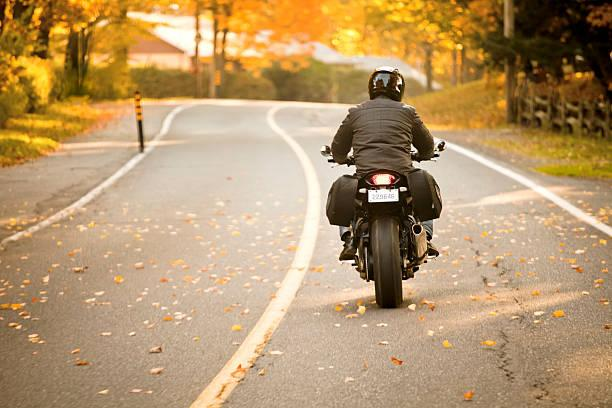motorcycle: (314, 138, 456, 311)
